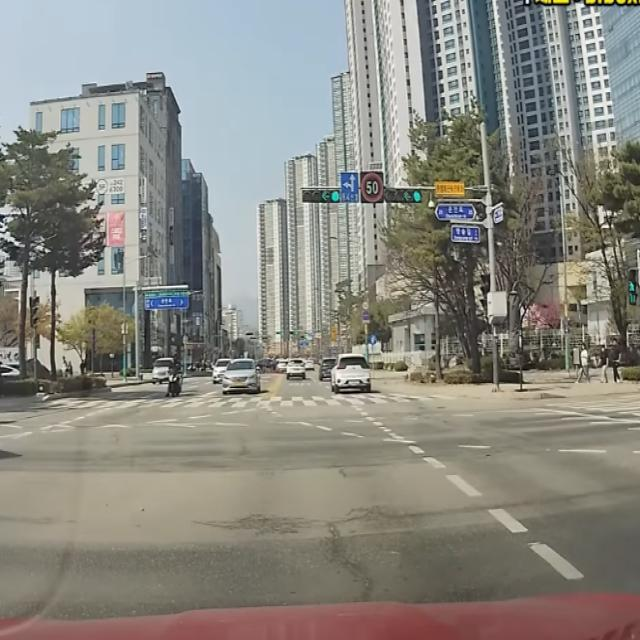Green Light: (330, 190, 340, 203), (412, 190, 422, 202)
